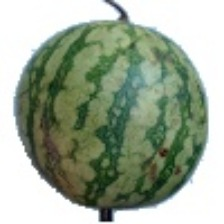watermelon: (52, 19, 212, 208)
